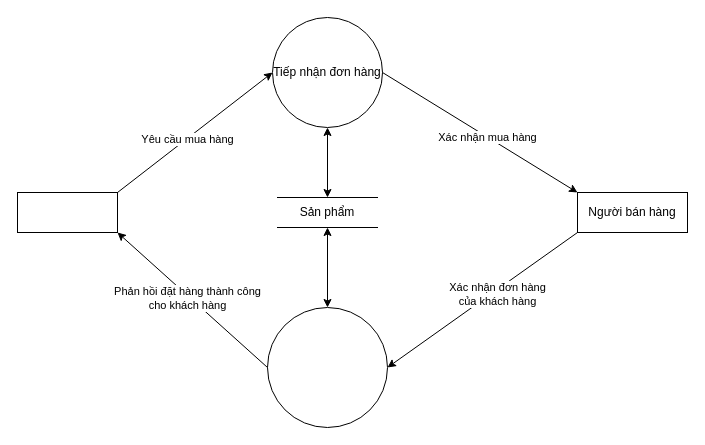
Some shapes in this 705 by 445 pixel diagram are drawn without their labels. Each missing label, with the box of its shape:
Khách hàng: (16, 192, 118, 232)
Xác nhận đơn hàng thành công: (266, 306, 388, 428)
